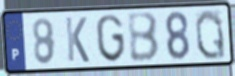8: (163, 10, 191, 63), (31, 16, 56, 66)
B: (126, 10, 161, 63)
G: (95, 13, 128, 64)
K: (64, 15, 91, 64)
Q: (194, 8, 228, 62)
